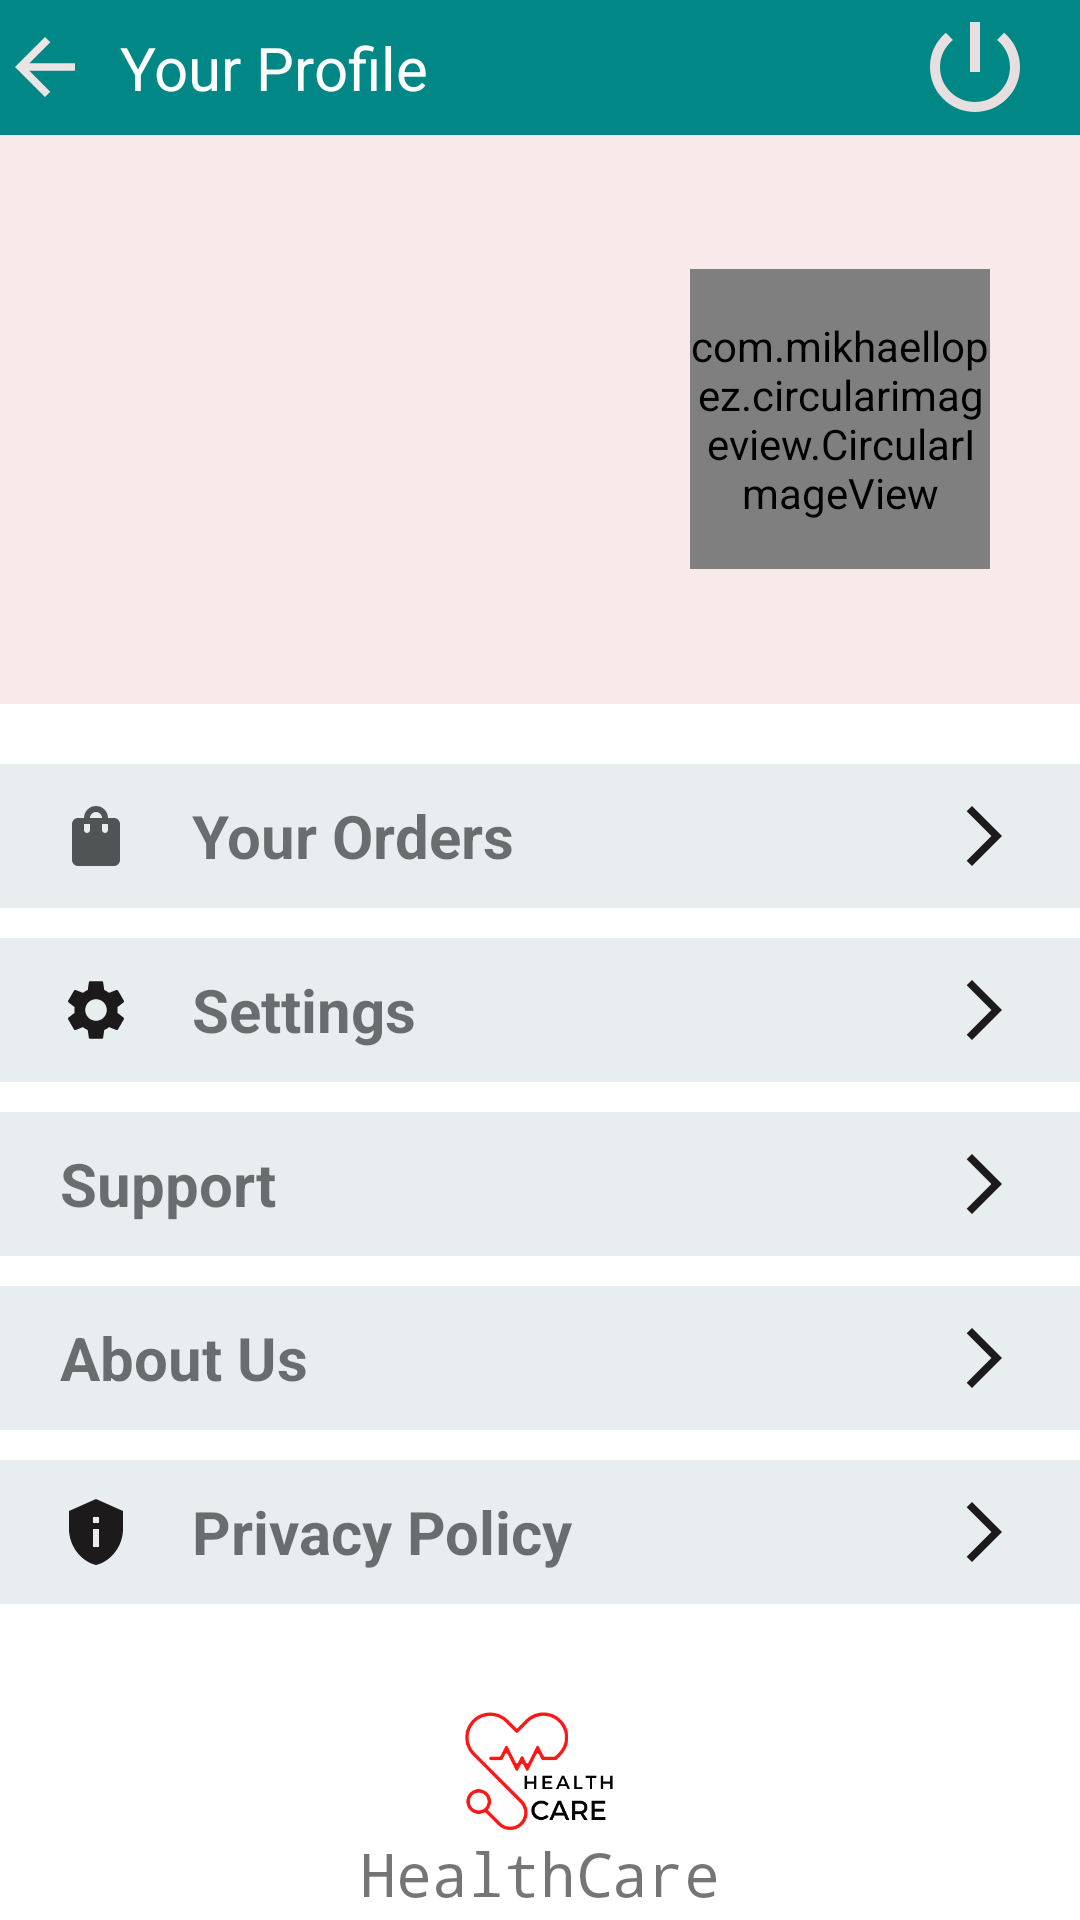

Icon click points for this 1080×1920 phone screenshot, format [x,y]:
back: [45,67]
